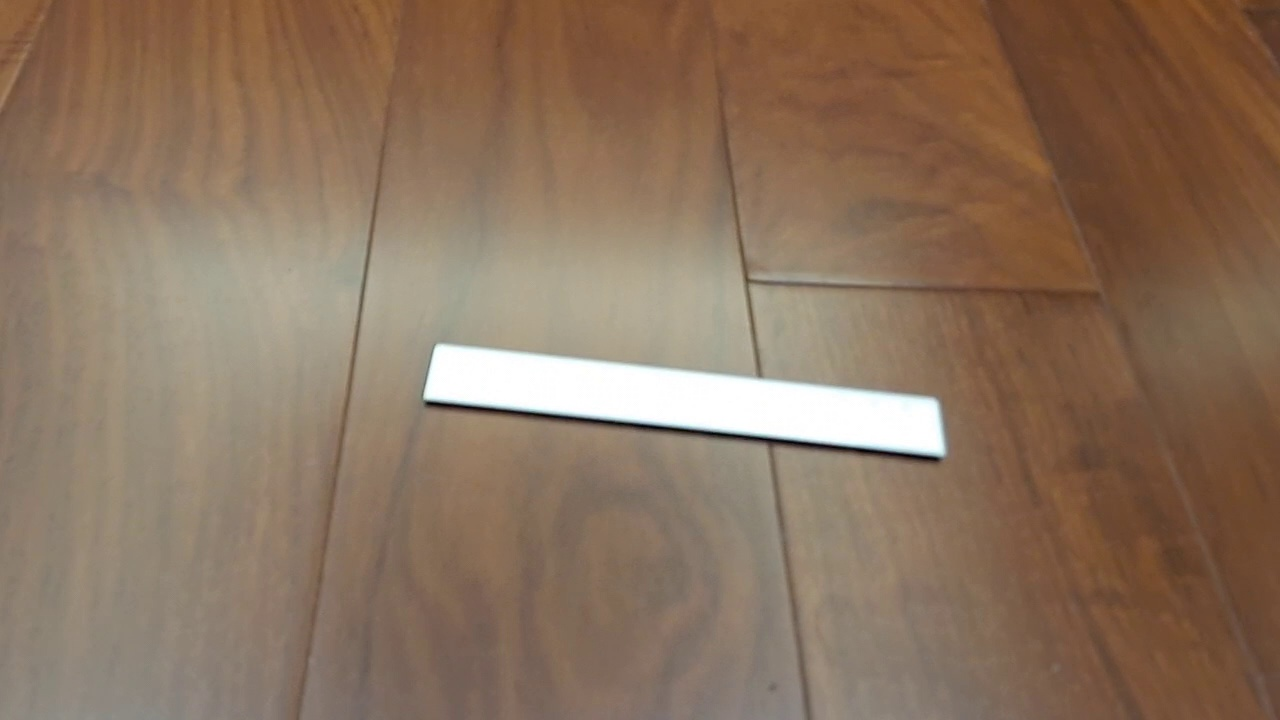ruler: (420, 341, 948, 463)
